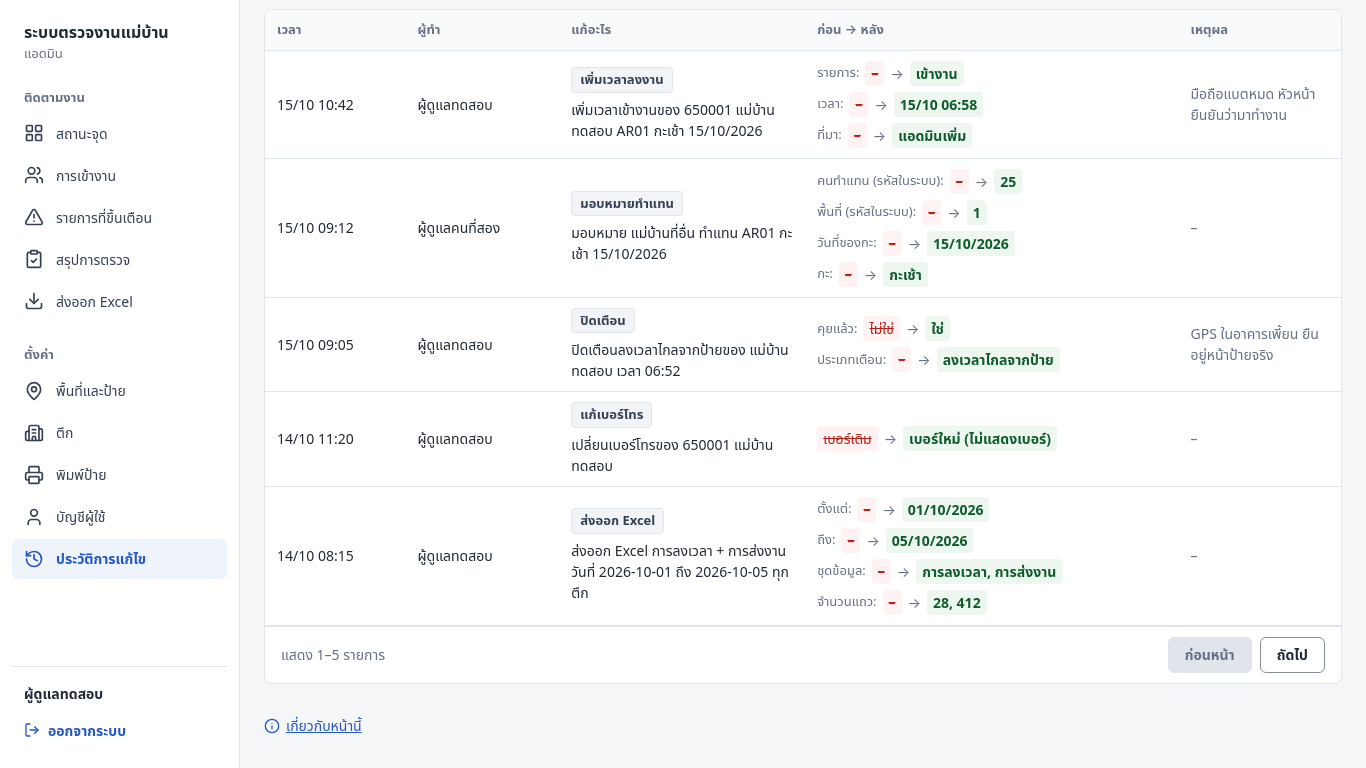
Test: HistoryPage (D9, facility-0057) › an empty terminal cursor retains the last real page and disables next
(page scrolled)
Expected: the text "แสดง 1–5 รายการ" is shown, [281, 644, 385, 665]
Click the button "ถัดไป".
click(1292, 655)  # box [1260, 637, 1325, 673]
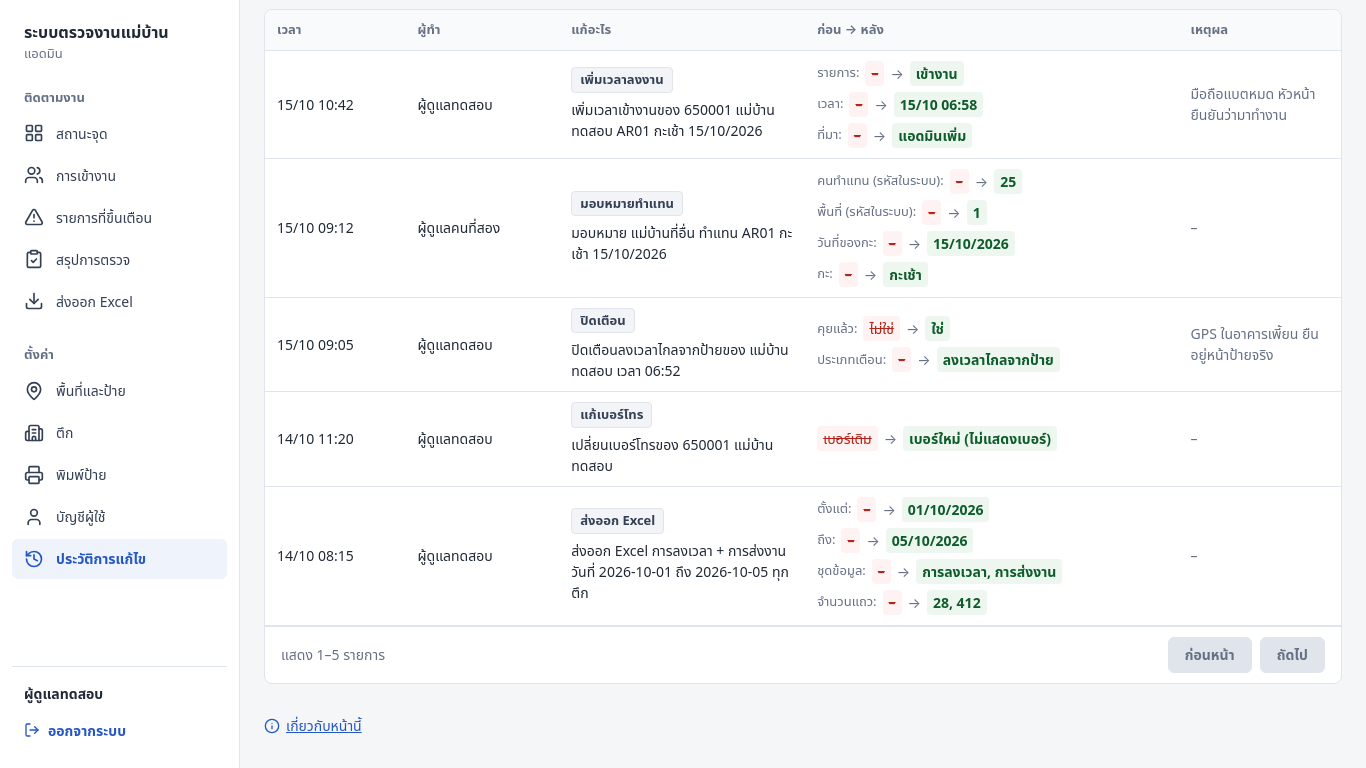
Expected: the text "แสดง 1–5 รายการ" is shown, [281, 644, 385, 665]
Expected: the button "ถัดไป" is disabled, [1260, 637, 1325, 673]
